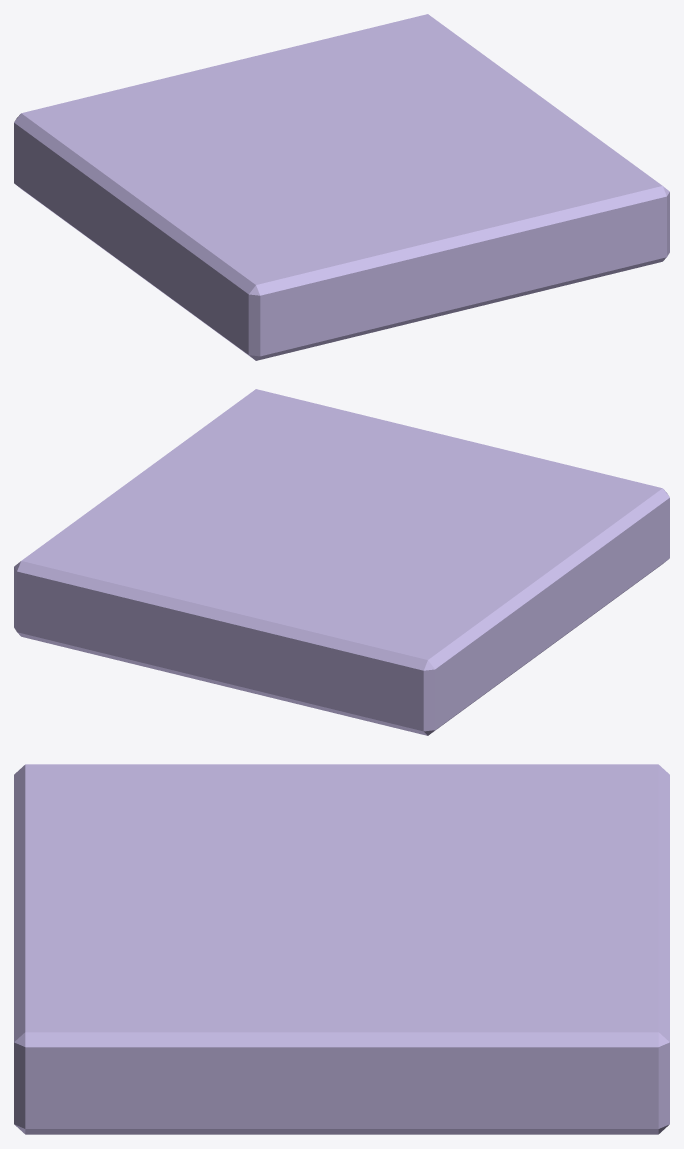
The model's file is JumpPad.fbx.
The picture shows the model from 3 angles, top to bottom: view 1: azimuth 30°, elevation 25°; view 2: azimuth 150°, elevation 25°; view 3: azimuth 270°, elevation 25°; orthographic projection. The views are drawn at different scales.
Parts seen in each view (by area): view 1: JumpPad; view 2: JumpPad; view 3: JumpPad.
Part boxes in pixels (x1,y1,x2,y2): JumpPad: (14, 14, 669, 360); JumpPad: (14, 389, 669, 735); JumpPad: (14, 764, 669, 1134).
Bounding box in the file's own units: 1.21 × 0.2086 × 1.21.
